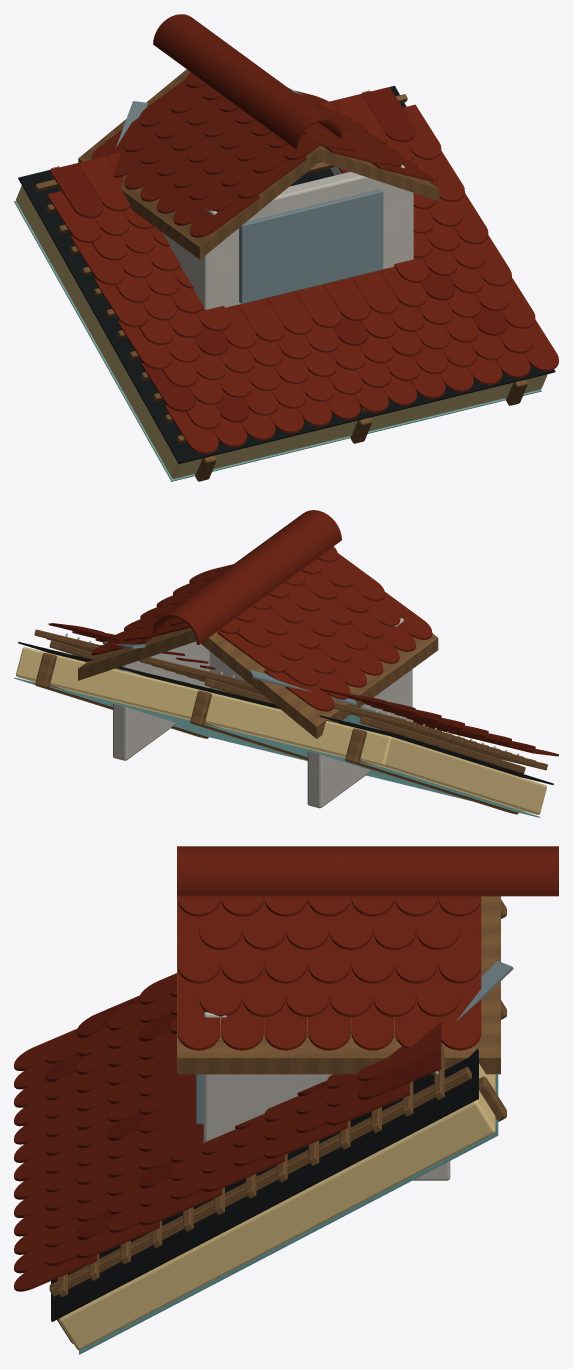
The model's file is modell.glb.
3 views of the same model, one above another, from view 1: azimuth 30°, elevation 25°; view 2: azimuth 150°, elevation 25°; view 3: azimuth 270°, elevation 25° (orthographic). The views are drawn at different scales.
Visible parts, largest first — view 1: s10-deckziegel_deckung, s10-gaubendach_deckung, s10-wange_.001, s10-daemmung_daemmung, s10-wange_, s10-zusatzebene_zusatzebene, s10-deckziegel_deckung.001, s10-gaubendach_tragwerk, s10-luftdichtheit_luftdichtheit, s10-lattung_lattung, s10-sparren_tragwerk; view 2: s10-gaubendach_deckung, s10-daemmung_daemmung, s10-wange_, s10-gaubendach_tragwerk, s10-lattung_lattung, s10-luftdichtheit_luftdichtheit, s10-sparren_tragwerk, s10-deckziegel_deckung, s10-zusatzebene_zusatzebene, s10-deckziegel_deckung.001, s10-kehle_deckung; view 3: s10-gaubendach_deckung, s10-deckziegel_deckung, s10-daemmung_daemmung, s10-zusatzebene_zusatzebene, s10-gaubendach_tragwerk, s10-lattung_lattung, s10-deckziegel_deckung.001, s10-wange_, s10-luftdichtheit_luftdichtheit, s10-sparren_tragwerk, s10-kehle_deckung.
Part boxes in pixels (bbox=[...]): s10-deckziegel_deckung: bbox=[47, 94, 558, 453]; s10-gaubendach_deckung: bbox=[91, 14, 433, 237]; s10-wange_.001: bbox=[239, 189, 383, 303]; s10-daemmung_daemmung: bbox=[16, 185, 547, 478]; s10-wange_: bbox=[162, 164, 413, 309]; s10-zusatzebene_zusatzebene: bbox=[18, 85, 555, 463]; s10-deckziegel_deckung.001: bbox=[49, 87, 506, 422]; s10-gaubendach_tragwerk: bbox=[78, 69, 439, 259]; s10-luftdichtheit_luftdichtheit: bbox=[14, 200, 541, 481]; s10-lattung_lattung: bbox=[34, 90, 407, 443]; s10-sparren_tragwerk: bbox=[195, 379, 527, 481]; s10-gaubendach_deckung: bbox=[91, 510, 432, 711]; s10-daemmung_daemmung: bbox=[16, 647, 546, 814]; s10-wange_: bbox=[113, 618, 412, 808]; s10-gaubendach_tragwerk: bbox=[78, 628, 438, 738]; s10-lattung_lattung: bbox=[34, 629, 547, 773]; s10-luftdichtheit_luftdichtheit: bbox=[14, 677, 540, 817]; s10-sparren_tragwerk: bbox=[35, 653, 518, 814]; s10-deckziegel_deckung: bbox=[48, 623, 558, 756]; s10-zusatzebene_zusatzebene: bbox=[18, 641, 553, 784]; s10-deckziegel_deckung.001: bbox=[51, 623, 535, 748]; s10-kehle_deckung: bbox=[102, 641, 356, 705]; s10-gaubendach_deckung: bbox=[177, 846, 558, 1050]; s10-deckziegel_deckung: bbox=[14, 973, 441, 1291]; s10-daemmung_daemmung: bbox=[58, 1063, 495, 1350]; s10-zusatzebene_zusatzebene: bbox=[51, 1048, 478, 1321]; s10-gaubendach_tragwerk: bbox=[177, 896, 500, 1074]; s10-lattung_lattung: bbox=[49, 1042, 471, 1297]; s10-deckziegel_deckung.001: bbox=[45, 995, 441, 1239]; s10-wange_: bbox=[203, 1012, 450, 1180]; s10-luftdichtheit_luftdichtheit: bbox=[79, 1074, 498, 1354]; s10-sparren_tragwerk: bbox=[57, 899, 506, 1343]; s10-kehle_deckung: bbox=[456, 961, 513, 1021].
Bounding box in the file's own units: 2.39 × 1.78 × 2.26.
Materials: 10 (5 with a texture image).
